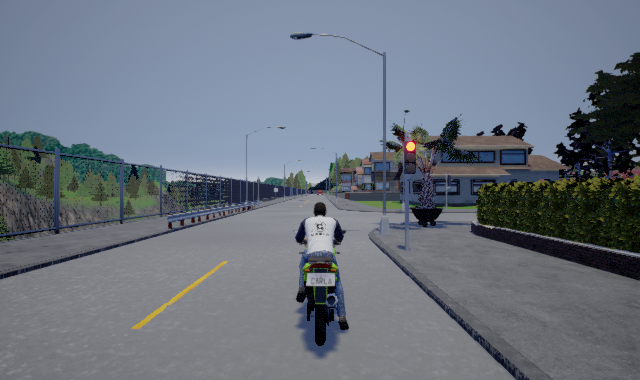motobike: (287, 198, 353, 350)
traffic_light: (404, 135, 416, 181)
